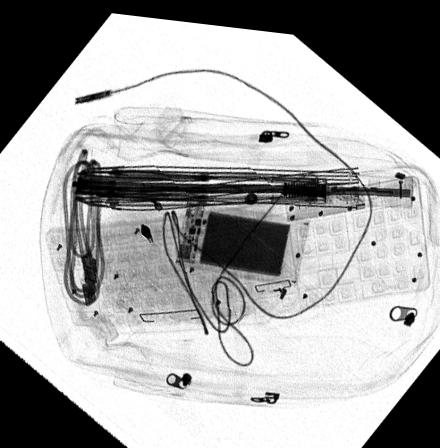Powerbank: (170, 195, 309, 281)
